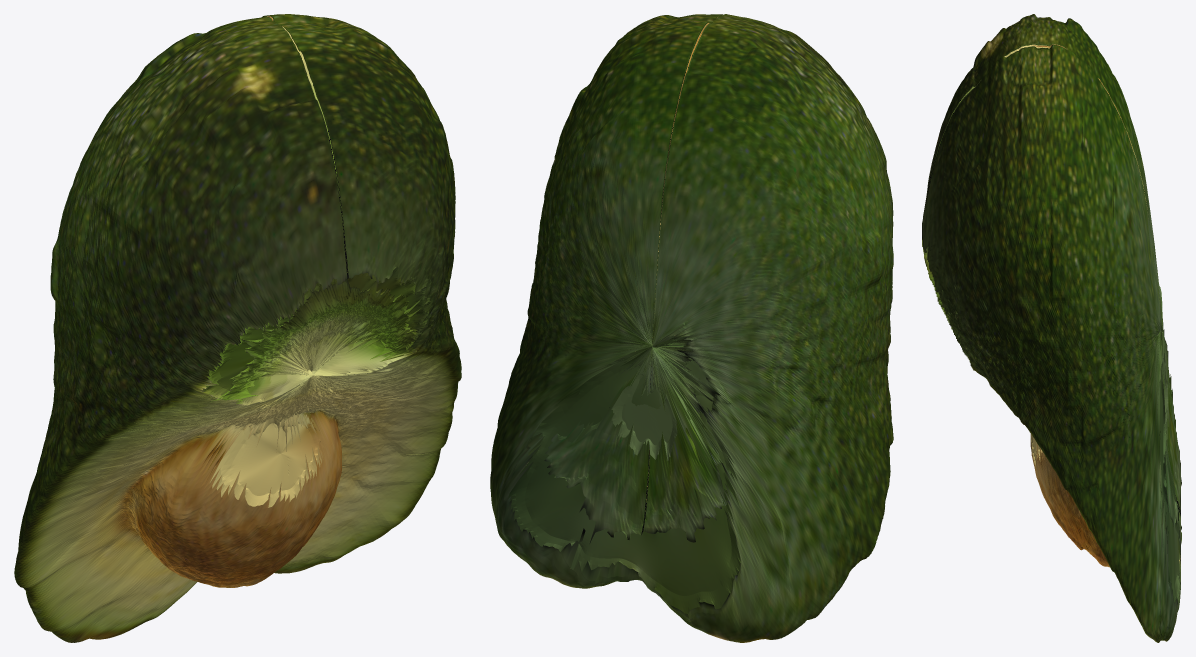
File: mesh_inpaint.glb
3 renders of one model, left to right at view 1: azimuth 30°, elevation 25°; view 2: azimuth 150°, elevation 25°; view 3: azimuth 270°, elevation 25°, orthographic. The views are drawn at different scales.
Visible parts, largest first — view 1: ipn, fill; view 2: ipn, fill; view 3: ipn, fill.
Boxes of the visible parts, bbox=[...] form: ipn: bbox=[14, 14, 461, 642]; fill: bbox=[202, 266, 430, 507]; ipn: bbox=[490, 14, 893, 642]; fill: bbox=[508, 335, 740, 613]; ipn: bbox=[922, 14, 1181, 642]; fill: bbox=[922, 239, 1181, 604].
Bounding box in the file's own units: 1.34 × 1.88 × 0.7867.
2 materials, 1 textured.
